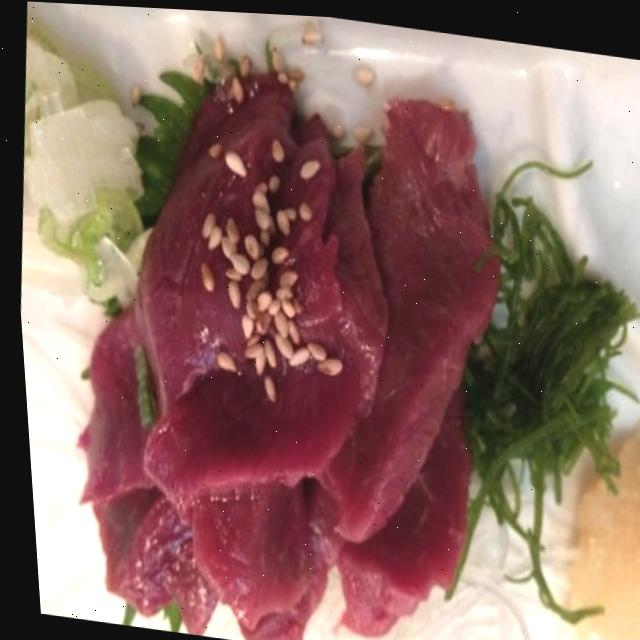刺身生食: (19, 40, 554, 640)
